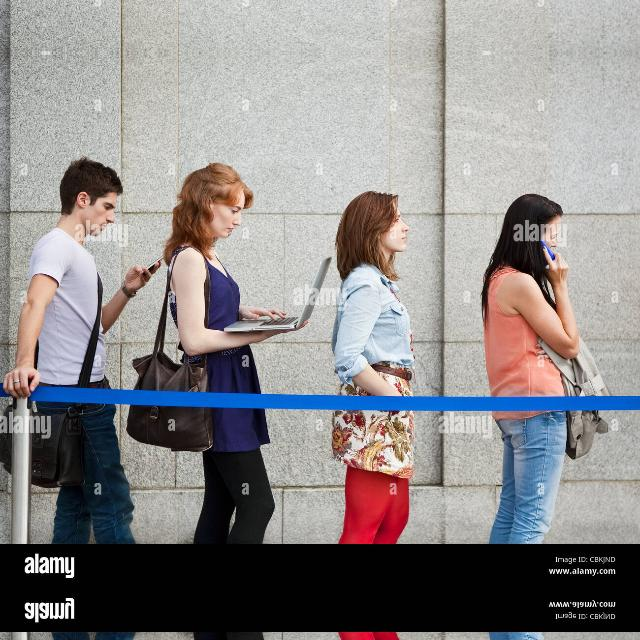person: (13, 151, 167, 423), (482, 182, 622, 436), (167, 161, 276, 383), (336, 186, 429, 404)
